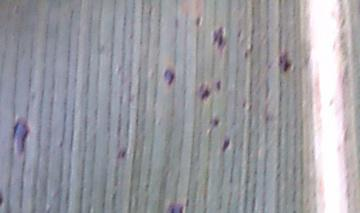tarspot: (9, 112, 29, 156), (211, 25, 227, 51), (277, 50, 292, 75), (162, 64, 176, 90), (197, 80, 212, 102), (165, 198, 184, 213), (219, 134, 232, 153), (207, 114, 221, 129), (115, 146, 127, 160), (214, 79, 224, 91), (193, 15, 202, 26)
